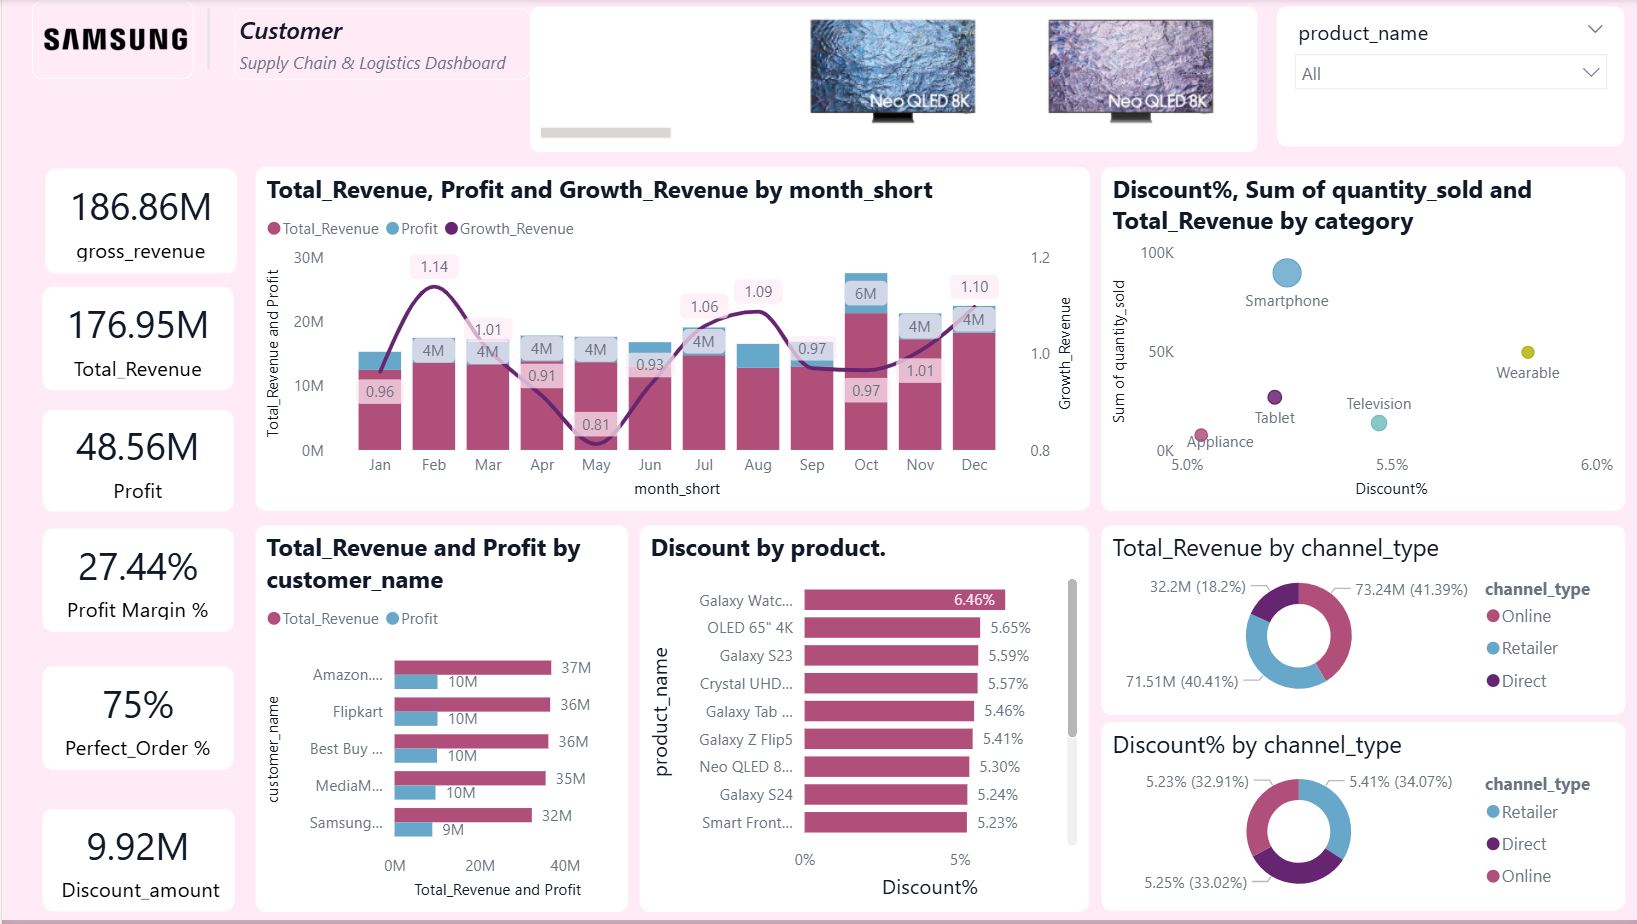

The dashboard page shown, as its layout file describes it:
{"tool":"powerbi","page":{"name":"Customer","canvas":[1280,720],"ordinal":5},"visuals":[{"type":"shape","title":"Customer","box":[182,6.6,231.1,55.8],"z":0},{"type":"shape","box":[139.5,6.6,43.8,47.8],"z":1000},{"type":"image","box":[23.9,1.3,126.2,61.1],"z":2000},{"type":"card","fields":{"Values":["MeasureTable.Total_Revenue"]},"box":[31.5,225.5,149.6,80.5],"z":3000},{"type":"card","fields":{"Values":["MeasureTable.Total_Profit"]},"box":[31.5,321.4,149.6,79.3],"z":4000},{"type":"card","fields":{"Values":["MeasureTable.Profit Margin %"]},"box":[31.5,413.4,149.6,80.5],"z":5000},{"type":"card","fields":{"Values":["MeasureTable.Perfect_Order %"]},"box":[31.5,522.1,149.6,80.5],"z":6000},{"type":"card","fields":{"Values":["Sum(fact_sales.discount_amount)"]},"box":[31.7,632.8,149.7,79.7],"z":7000},{"type":"card","fields":{"Values":["Sum(fact_sales.gross_revenue)"]},"box":[34.1,132.2,149.6,81.8],"z":8000},{"type":"clusteredBarChart","fields":{"Category":["dim_customer.customer_name"],"Y":["MeasureTable.Total_Revenue","MeasureTable.Profit"]},"box":[198,412,291.5,301.7],"z":9000},{"type":"donutChart","fields":{"Y":["MeasureTable.Total_Revenue"],"Category":["dim_customer.channel_type"]},"box":[858.9,412,409.1,148.3],"z":10000},{"type":"lineStackedColumnComboChart","fields":{"Category":["dim_date.month_short"],"Y":["MeasureTable.Total_Revenue","MeasureTable.Profit"],"Y2":["MeasureTable.Growth_Revenue"]},"box":[198,130.8,651.9,268.4],"z":11000},{"type":"scatterChart","fields":{"X":["MeasureTable.Discount%"],"Y":["Sum(fact_sales.quantity_sold)"],"Series":["dim_product.category"],"Size":["MeasureTable.Total_Revenue"]},"box":[858.9,130.8,409.1,268.4],"z":12000},{"type":"clusteredBarChart","title":"Discount by product.","fields":{"Category":["dim_product.product_name"],"Y":["MeasureTable.Discount%"]},"box":[498.4,412,351.5,301.7],"z":13000},{"type":"donutChart","fields":{"Y":["MeasureTable.Discount%"],"Category":["dim_customer.channel_type"]},"box":[858.9,565.4,409.1,147],"z":14000},{"type":"slicer","fields":{"Values":["dim_product.product_name"]},"box":[996,6,271.5,109.5],"z":15000},{"type":"advancedSlicerVisual","fields":{"Values":["dim_product.product_name"]},"box":[412.5,6,568.5,114],"z":16000}]}

Visuals, with their boxes in screenshot pixels (x1, y1, x2, y2), scaled from the page's 1280x720 canvas onto the 1637x924 screenshot:
"Customer" shape: l=233, t=8, r=528, b=80
shape: l=178, t=8, r=234, b=70
image: l=31, t=2, r=192, b=80
card - MeasureTable.Total_Revenue: l=40, t=289, r=232, b=393
card - MeasureTable.Total_Profit: l=40, t=412, r=232, b=514
card - MeasureTable.Profit Margin %: l=40, t=531, r=232, b=634
card - MeasureTable.Perfect_Order %: l=40, t=670, r=232, b=773
card - Sum(fact_sales.discount_amount): l=41, t=812, r=232, b=914
card - Sum(fact_sales.gross_revenue): l=44, t=170, r=235, b=275
clusteredBarChart - dim_customer.customer_name x MeasureTable.Total_Revenue: l=253, t=529, r=626, b=916
donutChart - MeasureTable.Total_Revenue x dim_customer.channel_type: l=1098, t=529, r=1622, b=719
lineStackedColumnComboChart - dim_date.month_short x MeasureTable.Total_Revenue: l=253, t=168, r=1087, b=512
scatterChart - MeasureTable.Discount% x Sum(fact_sales.quantity_sold): l=1098, t=168, r=1622, b=512
"Discount by product." clusteredBarChart: l=637, t=529, r=1087, b=916
donutChart - MeasureTable.Discount% x dim_customer.channel_type: l=1098, t=726, r=1622, b=914
slicer - dim_product.product_name: l=1274, t=8, r=1621, b=148
advancedSlicerVisual - dim_product.product_name: l=528, t=8, r=1255, b=154
